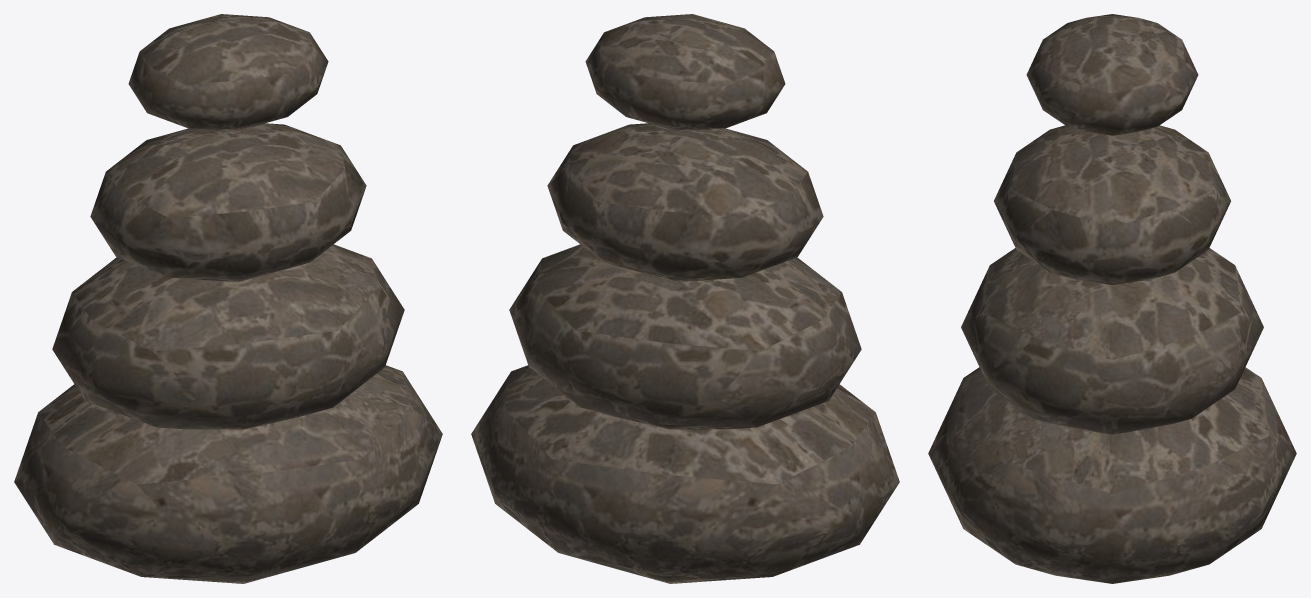
File: prop_cairn.glb
3 views of the same model, side by side, from view 1: azimuth 30°, elevation 25°; view 2: azimuth 150°, elevation 25°; view 3: azimuth 270°, elevation 25° (orthographic).
Visible parts, largest first — view 1: PROP_StoneCairn; view 2: PROP_StoneCairn; view 3: PROP_StoneCairn.
Boxes of the visible parts, box(x1,y1,x2,y2) form: PROP_StoneCairn: box(14, 14, 442, 583); PROP_StoneCairn: box(471, 14, 899, 583); PROP_StoneCairn: box(928, 14, 1296, 583).
Size of the model in its own units: 1.03 by 1.4 by 0.9.
Materials: 1 (1 with a texture image).
